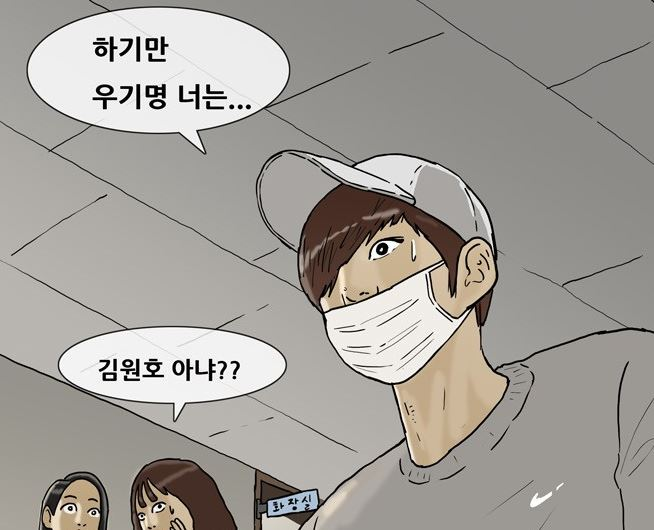hat: (249, 136, 509, 259)
